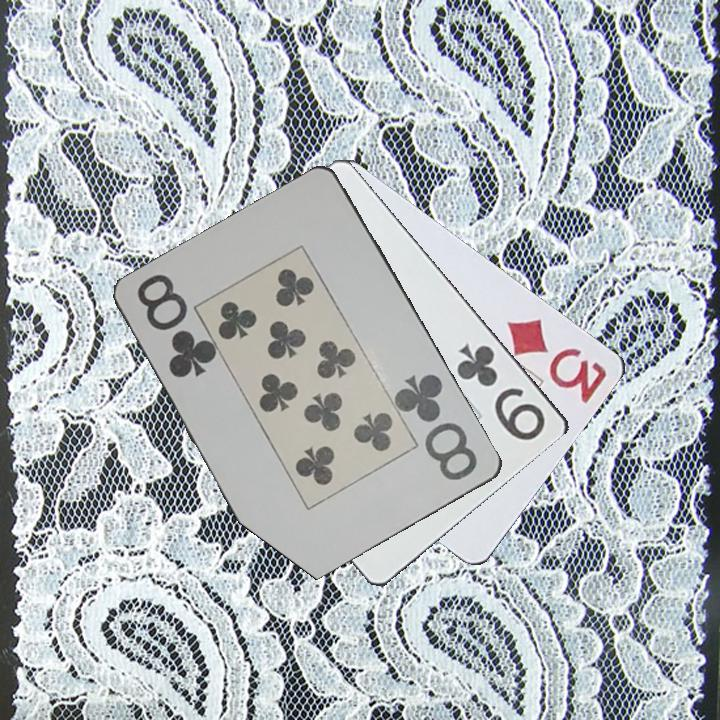3d: (503, 314, 611, 407)
8c: (392, 370, 484, 484), (134, 270, 218, 381)
9c: (453, 339, 549, 444)
